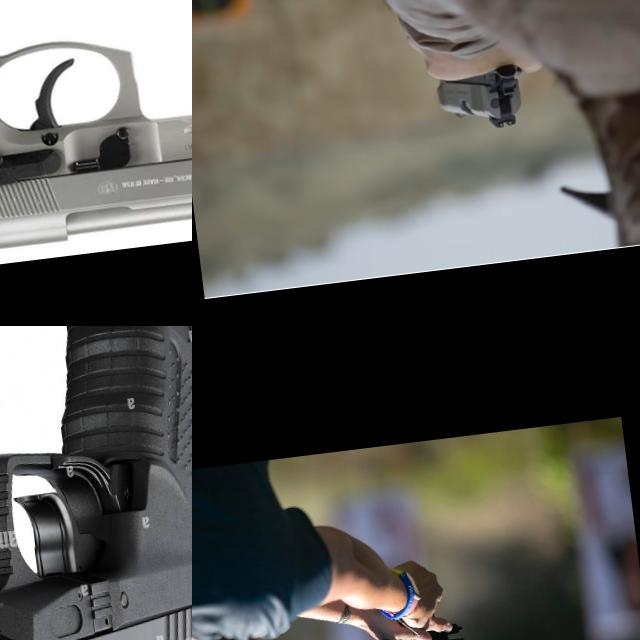handgun: (0, 326, 192, 640), (0, 0, 192, 283), (430, 60, 530, 138), (355, 619, 471, 640)
